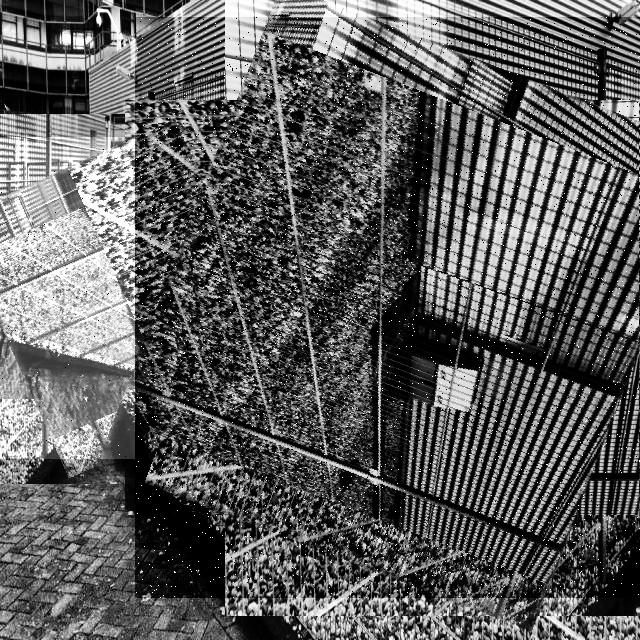fences: (135, 17, 640, 598), (0, 137, 266, 459)
